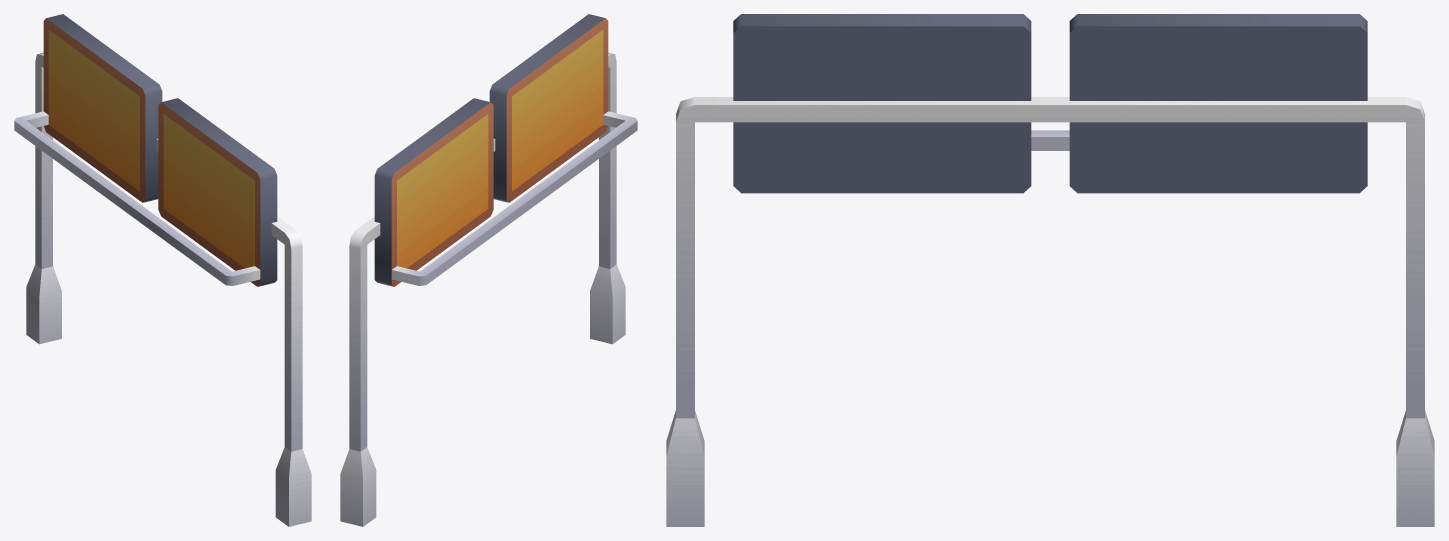
Rendered from city-sign.glb.
The picture shows the model from 3 angles, left to right: view 1: azimuth 30°, elevation 25°; view 2: azimuth 150°, elevation 25°; view 3: azimuth 270°, elevation 25°; orthographic projection. The views are drawn at different scales.
Visible parts, largest first — view 1: sign-highway; view 2: sign-highway; view 3: sign-highway.
Boxes of the visible parts, x1,y1,x2,y2 form: sign-highway: (14, 14, 311, 526); sign-highway: (340, 14, 637, 526); sign-highway: (666, 14, 1434, 526).
Size of the model in its own units: 0.1324 by 0.7074 by 1.
Materials: 1 (1 with a texture image).
